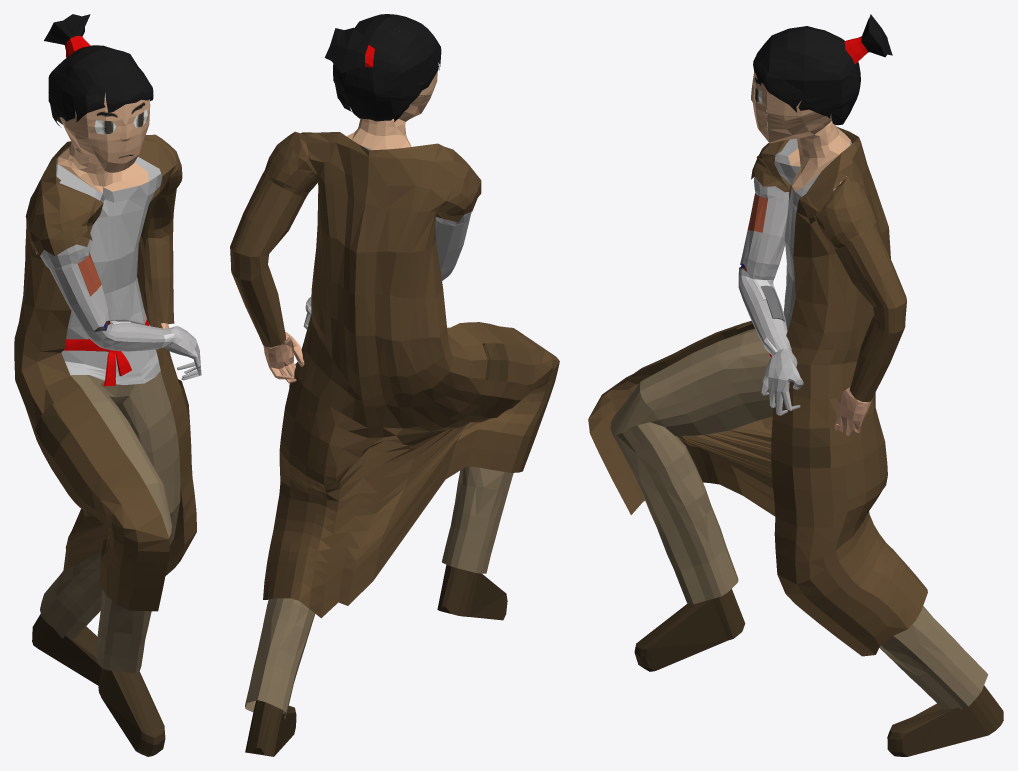
Rendered from One_RB_000003.obj.
The picture shows the model from 3 angles, left to right: view 1: azimuth 30°, elevation 25°; view 2: azimuth 150°, elevation 25°; view 3: azimuth 270°, elevation 25°; orthographic projection.
Parts seen in each view (by area): view 1: Hair_Cube.004; view 2: Hair_Cube.004; view 3: Hair_Cube.004.
Part boxes in pixels (x1=…): Hair_Cube.004: x1=14, y1=14, x2=201, y2=756; Hair_Cube.004: x1=230, y1=14, x2=559, y2=756; Hair_Cube.004: x1=588, y1=14, x2=1003, y2=756.
Size of the model in its own units: 1.09 by 3.67 by 1.95.
